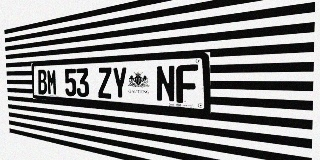3: (76, 68, 89, 97)
5: (65, 68, 77, 97)
B: (37, 69, 47, 95)
F: (176, 64, 198, 104)
M: (47, 69, 57, 95)
N: (156, 65, 176, 103)
Y: (112, 67, 128, 100)
Z: (97, 67, 112, 99)
